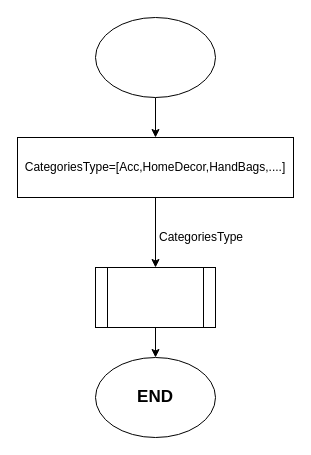
This 311x455 diagram has some shape labels left out. Here are the shapes that lost their labels. From the top down, the box of each, then its label:
(94, 16, 216, 98): Start
(94, 266, 216, 328): DiscoveryGrid
